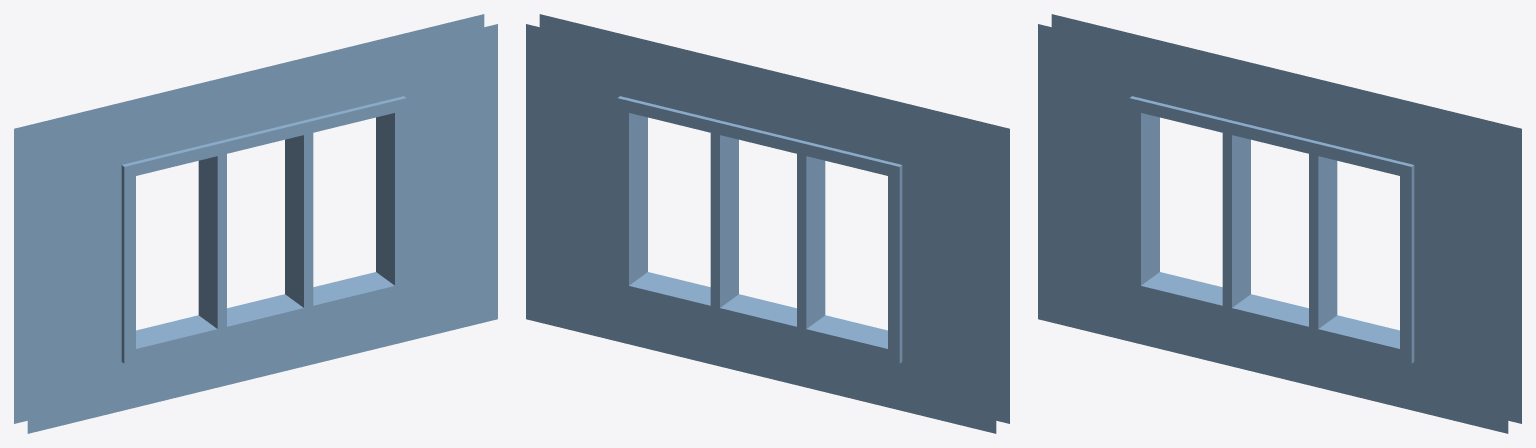
File: PSKwallWindowAssy.FBX
3 views of the same model, side by side, from view 1: azimuth 30°, elevation 25°; view 2: azimuth 150°, elevation 25°; view 3: azimuth 330°, elevation 25° (orthographic).
Visible parts, largest first — view 1: PSKwallWindow, PSKwindowFrame; view 2: PSKwallWindow, PSKwindowFrame; view 3: PSKwallWindow, PSKwindowFrame.
Boxes of the visible parts, <box> form: PSKwallWindow: <box>14,14,497,433</box>; PSKwindowFrame: <box>121,96,406,363</box>; PSKwallWindow: <box>526,14,1009,433</box>; PSKwindowFrame: <box>617,96,902,363</box>; PSKwallWindow: <box>1038,14,1521,433</box>; PSKwindowFrame: <box>1129,96,1414,363</box>.
Bounding box in the file's own units: 5 × 3 × 0.35.
